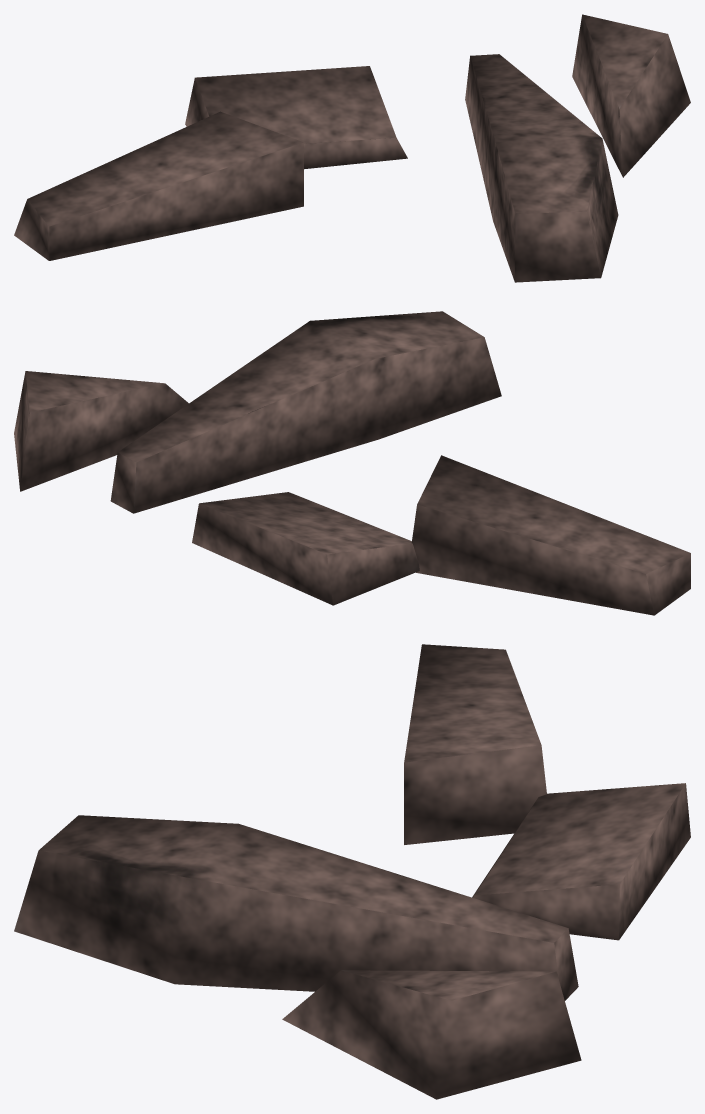
The model's file is tar_henge_07.fbx.
The picture shows the model from 3 angles, top to bottom: view 1: azimuth 30°, elevation 25°; view 2: azimuth 150°, elevation 25°; view 3: azimuth 270°, elevation 25°; orthographic projection. The views are drawn at different scales.
Parts seen in each view (by area): view 1: tar_henge_07; view 2: tar_henge_07; view 3: tar_henge_07.
Boxes of the visible parts, x1,y1,x2,y2 form: tar_henge_07: (14, 14, 690, 282); tar_henge_07: (14, 311, 690, 615); tar_henge_07: (14, 644, 690, 1099).
Size of the model in its own units: 372 by 45.02 by 262.
Materials: 1 (1 with a texture image).
